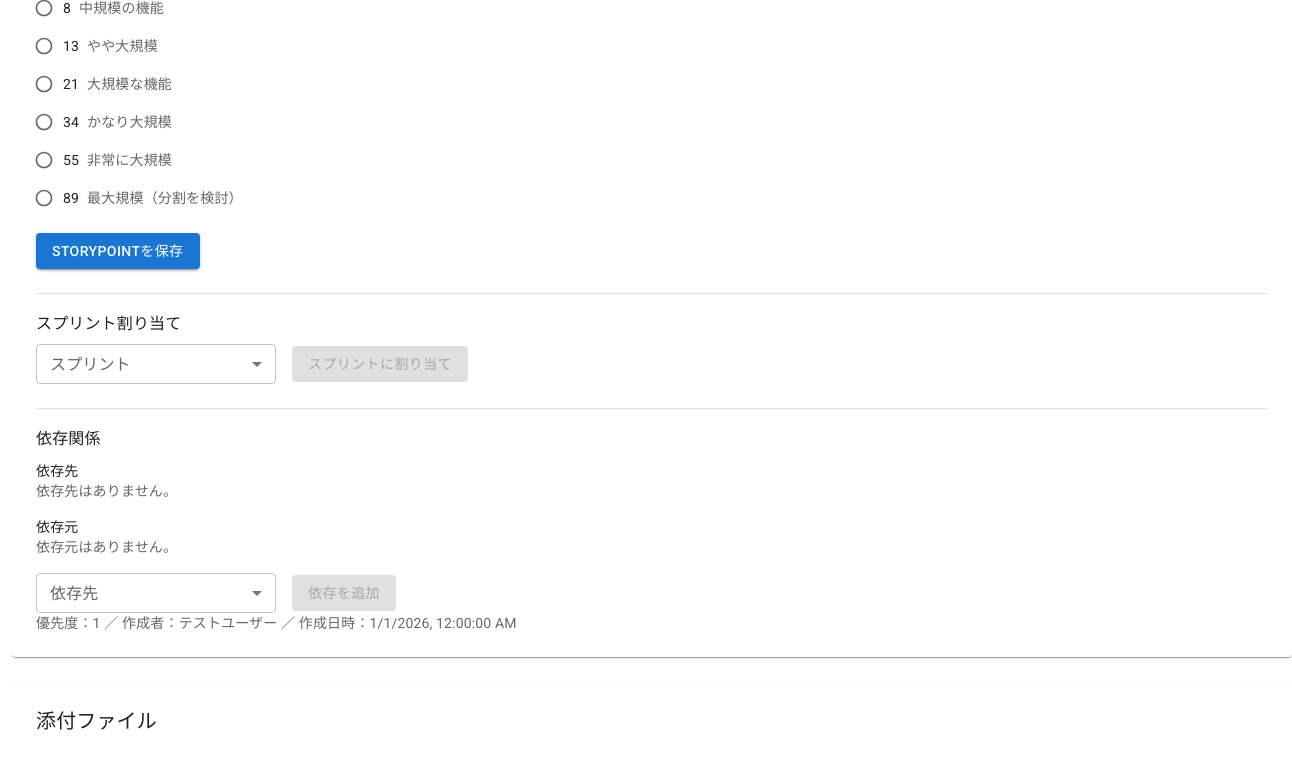
it: BacklogItemDetail オーバーアロケーション警告（Issue #531/#534） › 割り当て後の容量が超過していないとき、警告トーストは表示されない
The width and height of the screenshot is (1292, 764).
(page scrolled)
Check: the heading "スプリント割り当て" is shown, box [36,314,181,333]
Click the dropdown named "スプリント" below "スプリント割り当て": (156, 364) [36,344,276,384]
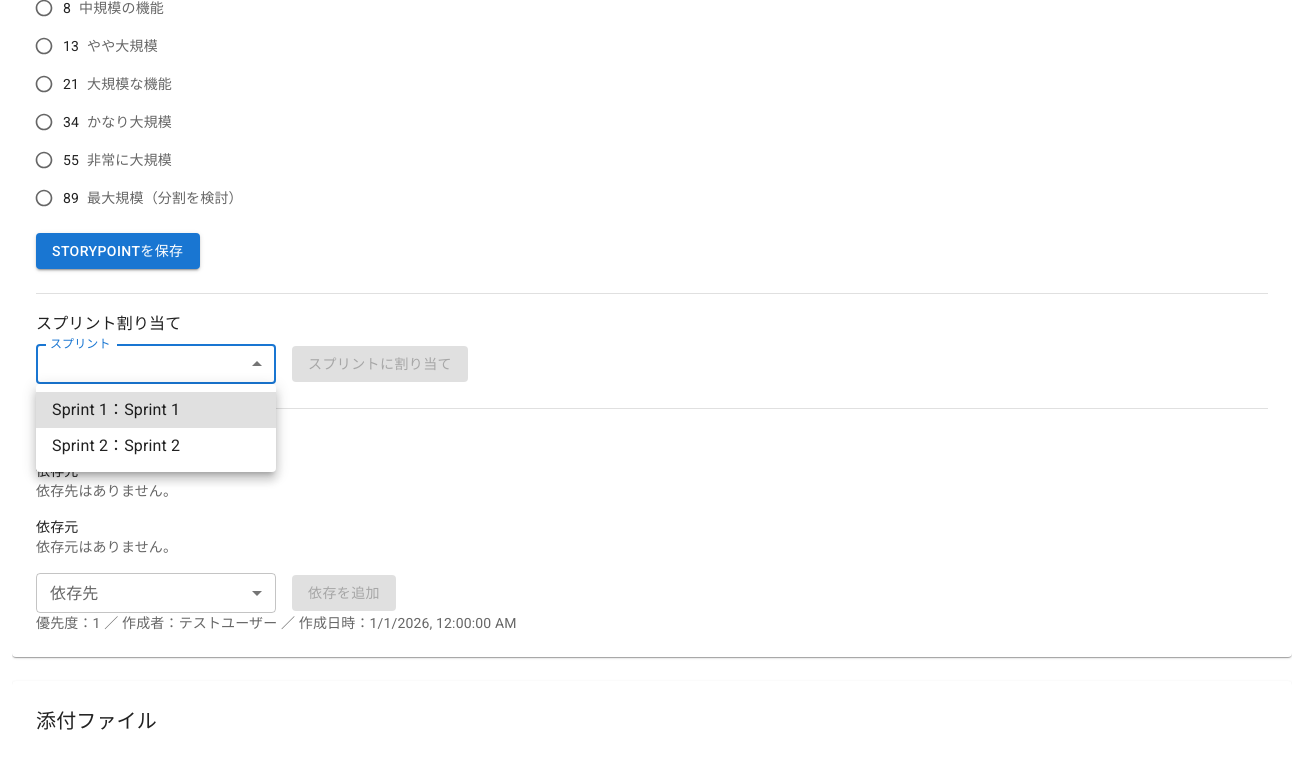
Click the option "Sprint 2：Sprint 2": (116, 446) [52,436,180,455]
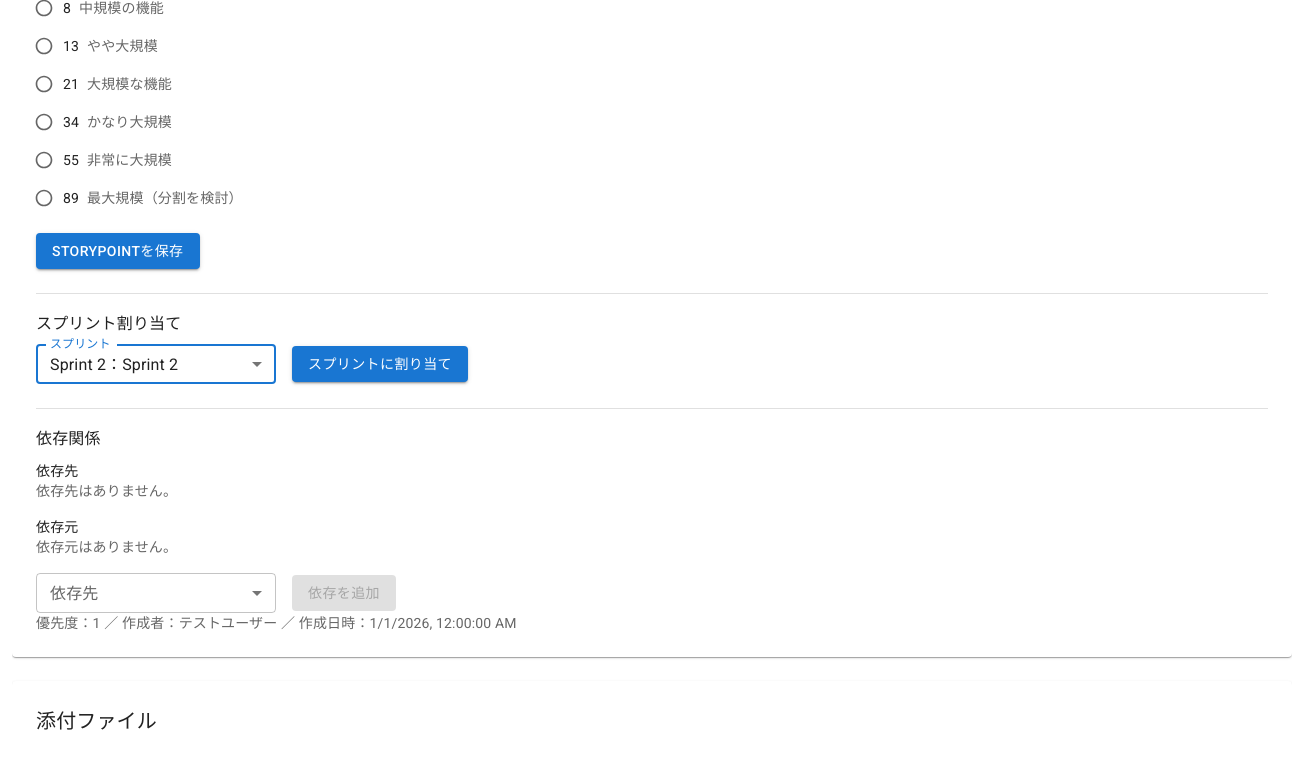
Click the button "スプリントに割り当て": (380, 364) [292,346,468,382]
(page scrolled)
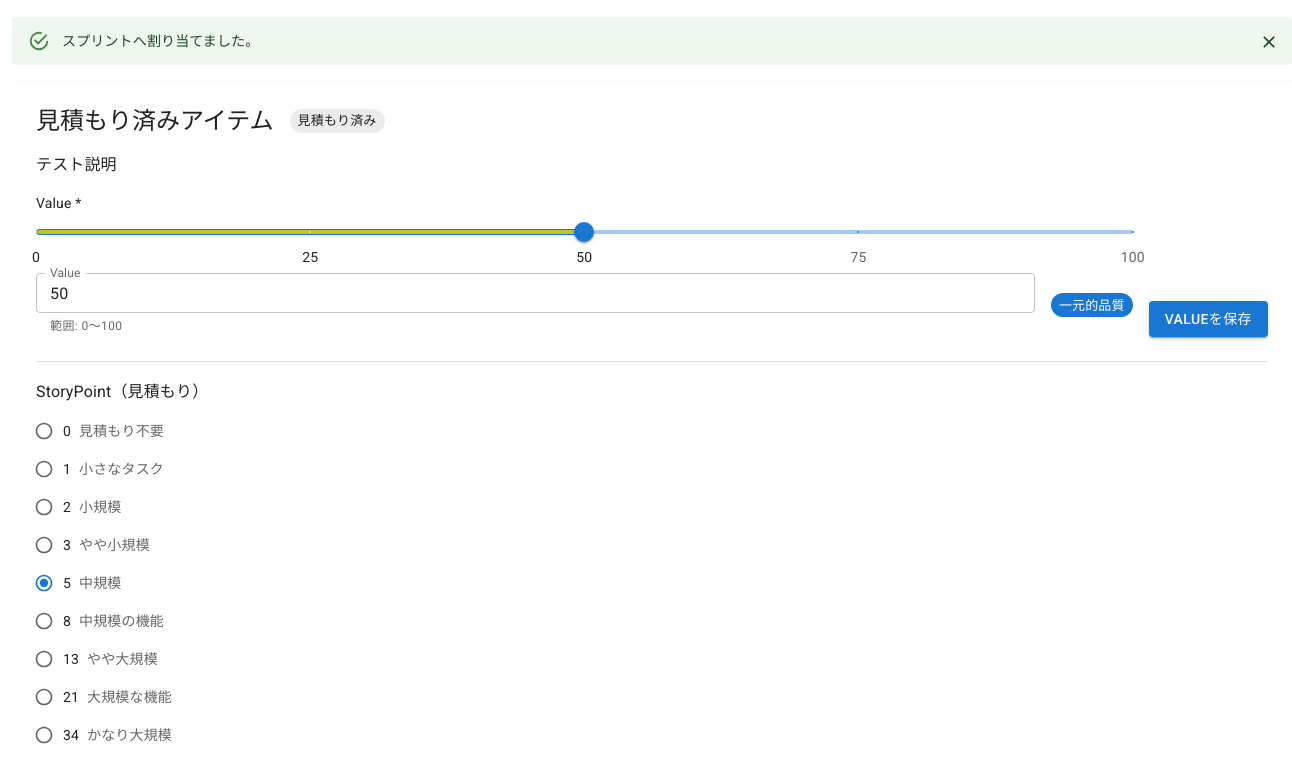
Check: the text "スプリントへ割り当てました。" is shown, box [62,32,259,48]
